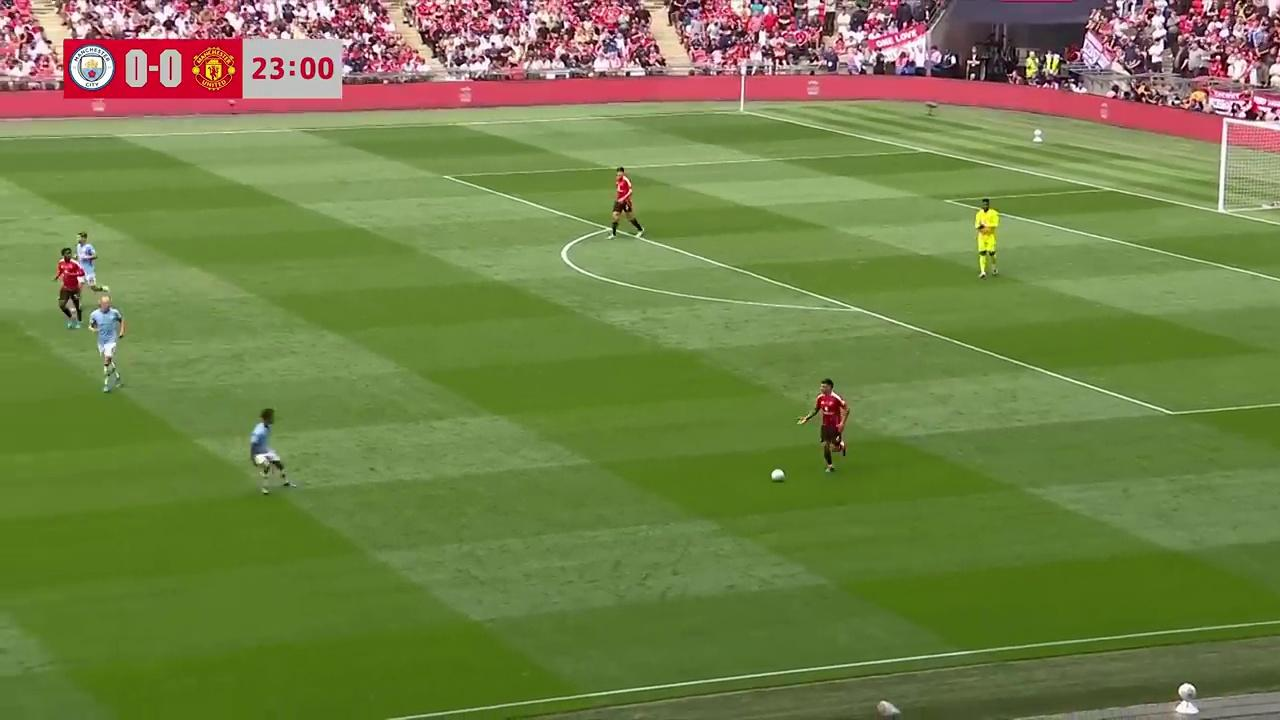ball: (769, 465, 786, 483)
player: (799, 377, 848, 474), (248, 408, 296, 493), (88, 291, 124, 392), (52, 248, 84, 329), (607, 172, 643, 238), (974, 197, 999, 278), (73, 230, 99, 294)
